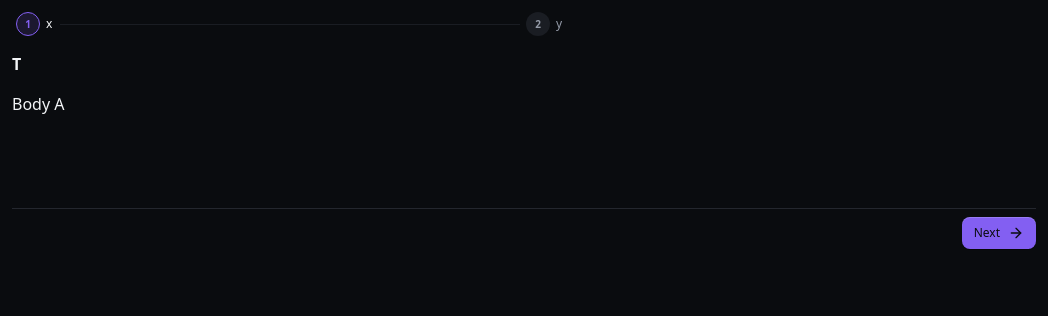
Wizard — onExit hook › shows exit-hook error and stays on current step
The width and height of the screenshot is (1048, 316).
Click the button "Next" at (999, 233), box [962, 217, 1036, 249]
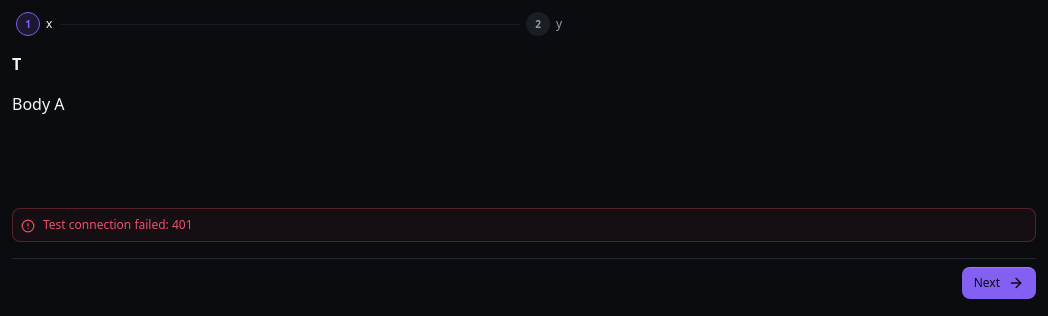
Expected: the text "Body A" is shown, [12, 93, 64, 115]
Result: the text "Test connection failed: 401" is shown at [43, 217, 192, 233]
